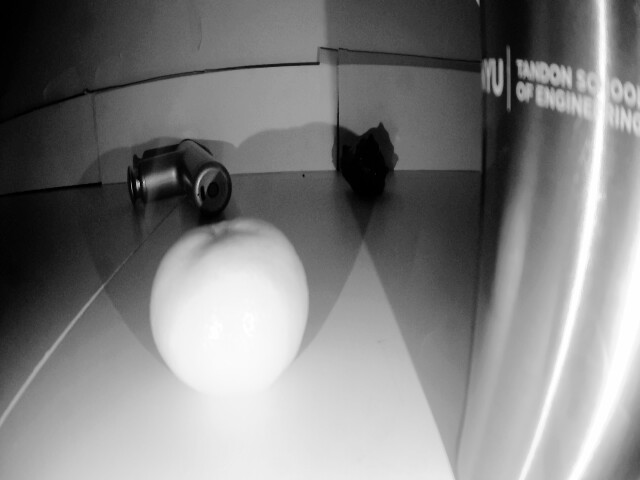black: (337, 128, 403, 189)
